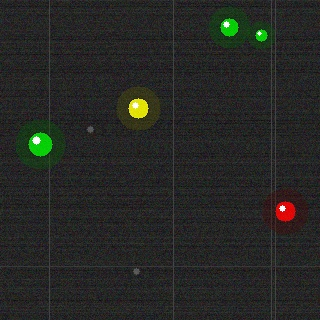green_normal: (26, 130, 54, 158), (218, 16, 240, 38), (253, 27, 269, 43)
red_fault: (273, 199, 297, 223)
yellow_warning: (126, 96, 150, 120)
